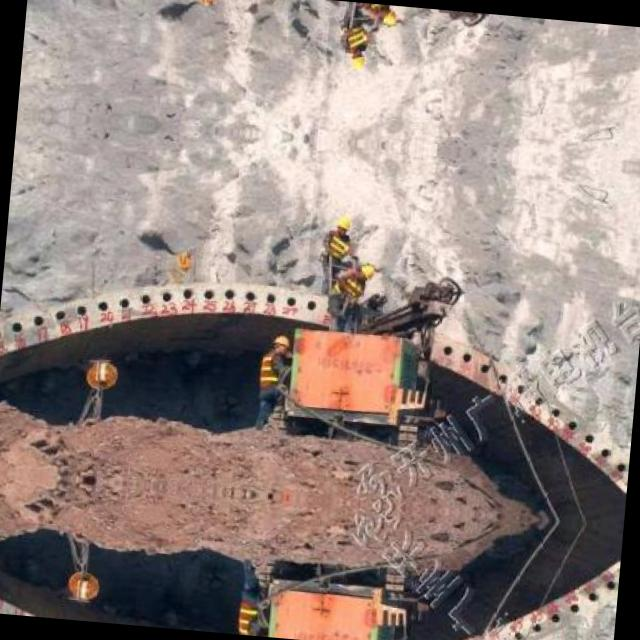helmet: (268, 334, 293, 358), (331, 213, 351, 236), (354, 262, 378, 281), (346, 48, 366, 70), (376, 8, 399, 27)
